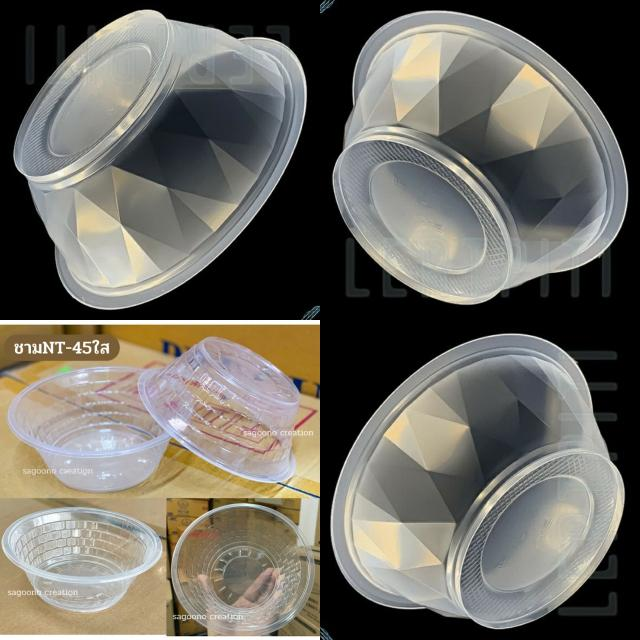Single-Use-Plastic: (14, 11, 305, 309), (331, 335, 624, 628), (334, 11, 628, 303), (138, 338, 300, 482), (8, 366, 170, 492), (171, 504, 314, 635), (2, 508, 162, 612)
